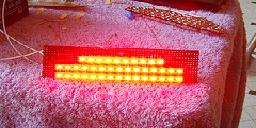LED: (52, 54, 186, 84)
